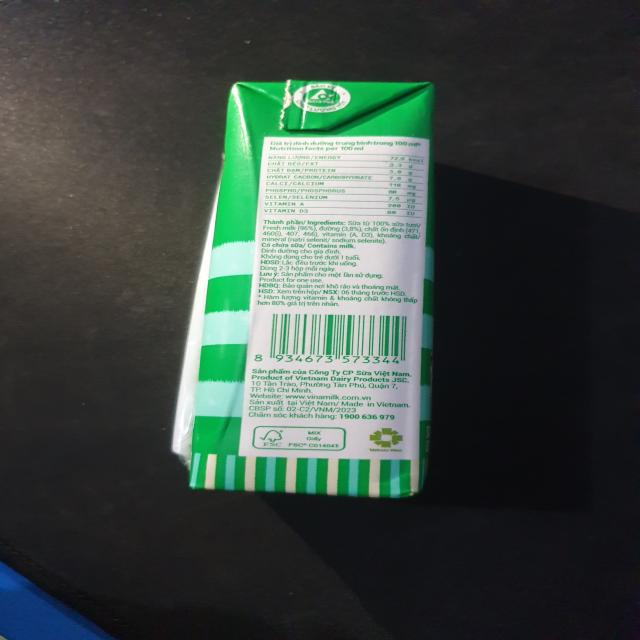Vina: (173, 84, 444, 501)
